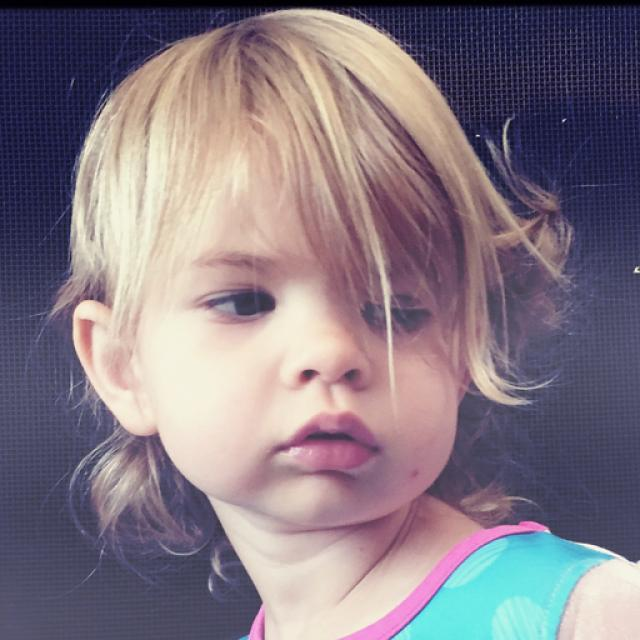sad: (138, 124, 462, 526)
